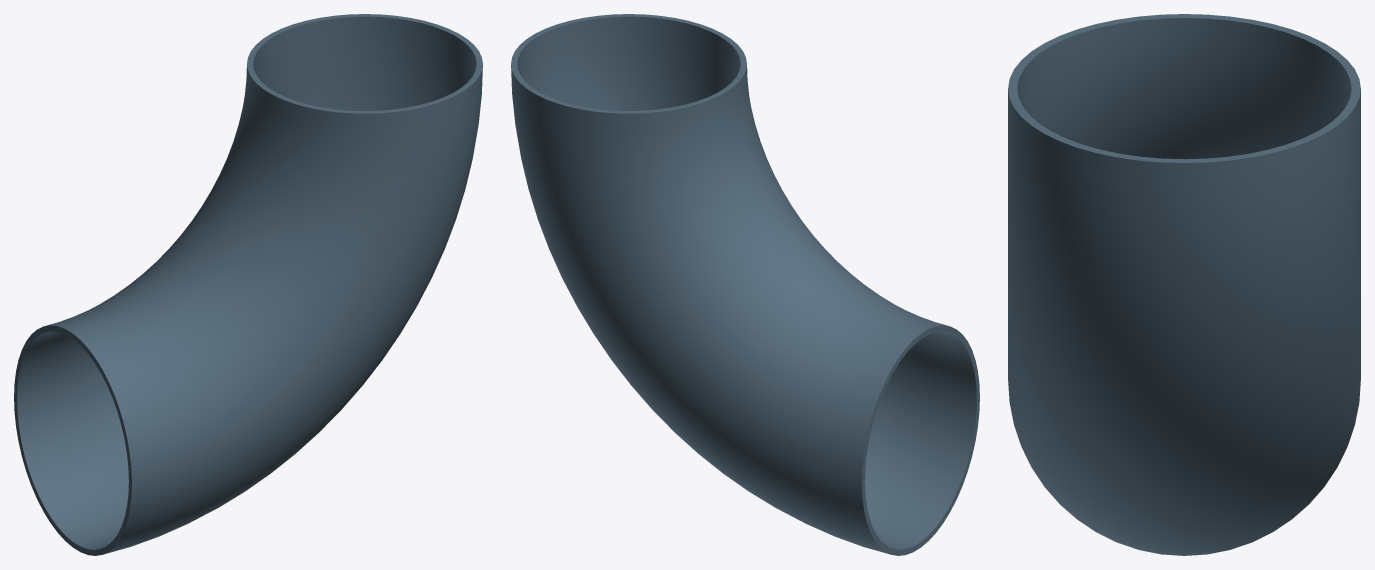
File: otvod-90-133x3_5-R190.glb
3 renders of one model, left to right at view 1: azimuth 30°, elevation 25°; view 2: azimuth 150°, elevation 25°; view 3: azimuth 270°, elevation 25°, orthographic. The views are drawn at different scales.
Parts seen in each view (by area): view 1: Open CASCADE STEP translator 7.9 47; view 2: Open CASCADE STEP translator 7.9 47; view 3: Open CASCADE STEP translator 7.9 47.
Boxes of the visible parts, box(x1,y1,x2,y2) form: Open CASCADE STEP translator 7.9 47: box(14, 14, 482, 555); Open CASCADE STEP translator 7.9 47: box(511, 14, 979, 555); Open CASCADE STEP translator 7.9 47: box(1008, 14, 1360, 555).
Size of the model in its own units: 256 by 256 by 133.
